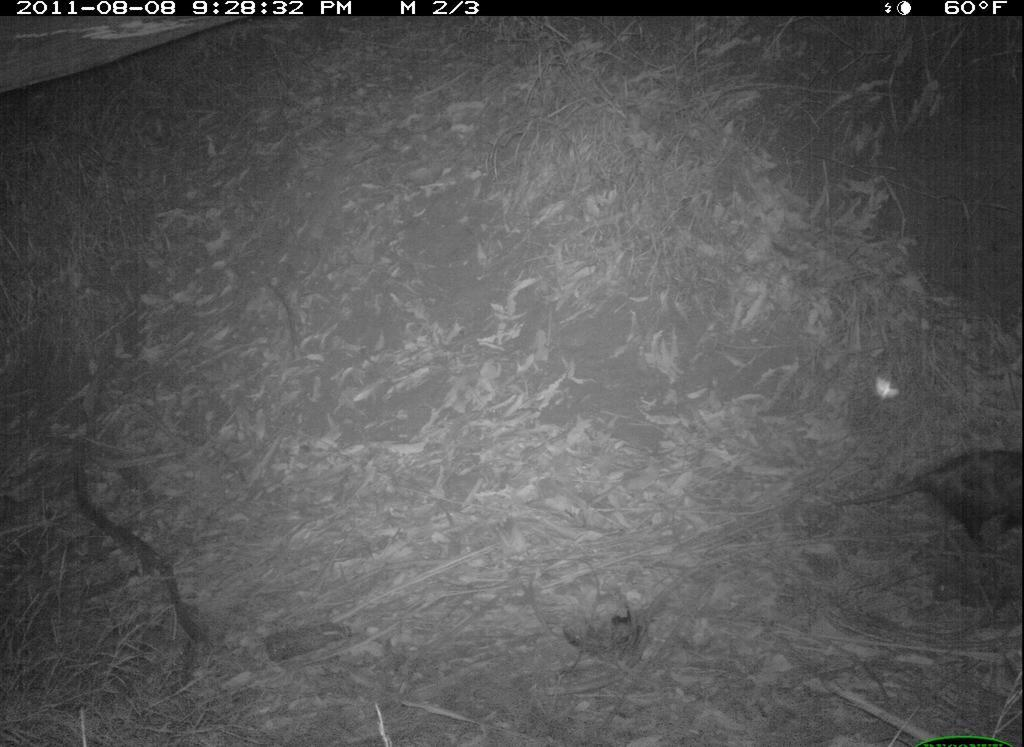opossum: (817, 438, 1023, 562)
